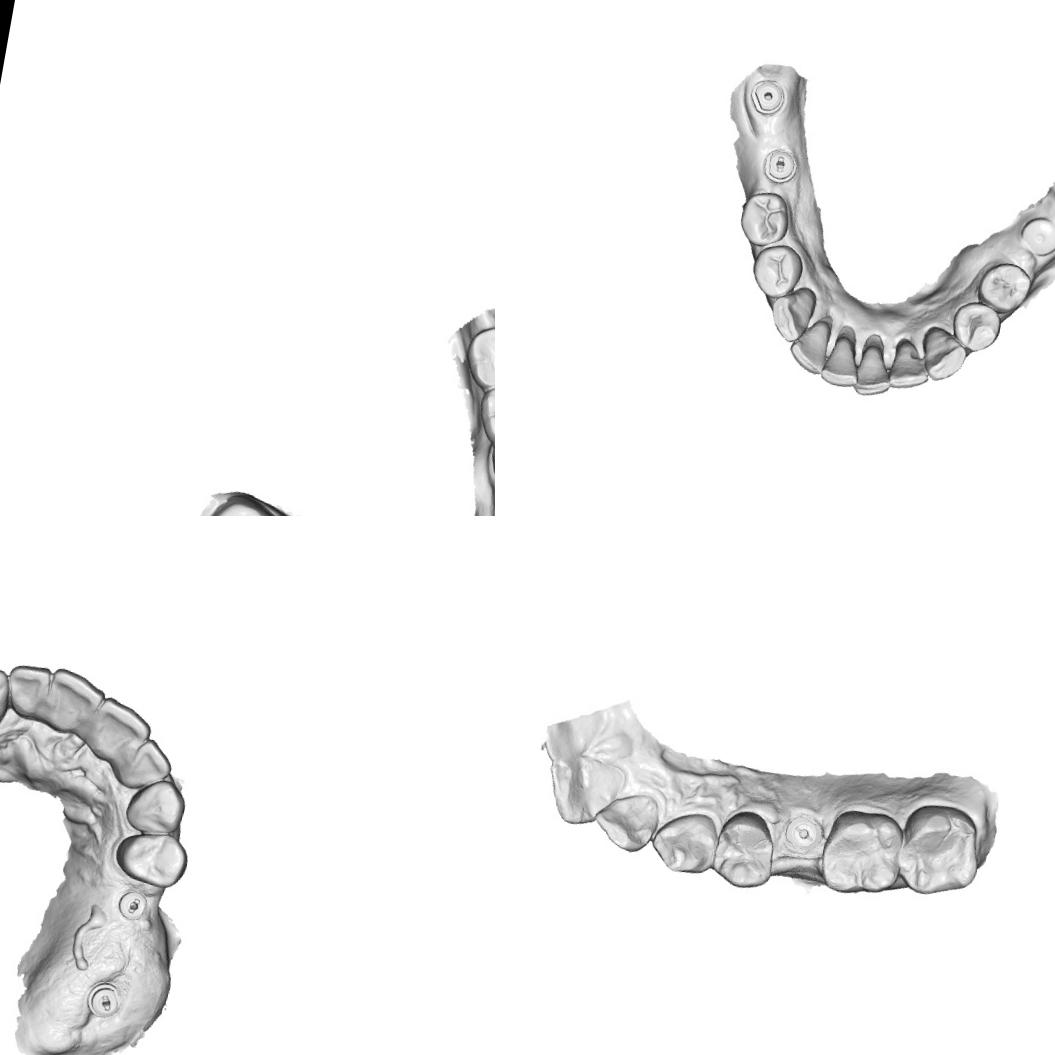canine: (647, 806, 726, 878), (119, 773, 190, 842), (763, 279, 819, 347), (914, 321, 972, 386), (0, 658, 14, 733)
implant: (1015, 211, 1055, 260), (748, 74, 789, 118)
implant_minus: (778, 810, 832, 858), (758, 144, 800, 187), (82, 978, 124, 1021), (115, 886, 152, 924)
incisor: (542, 746, 623, 831), (87, 692, 156, 769), (40, 662, 109, 736), (592, 790, 662, 855), (119, 733, 178, 794), (0, 659, 55, 722), (785, 312, 836, 378), (883, 336, 936, 395), (816, 330, 866, 390), (850, 340, 896, 401)
molar: (893, 800, 986, 904), (814, 802, 907, 900), (459, 318, 495, 396), (189, 488, 285, 516), (472, 375, 495, 450)
premolar: (711, 804, 778, 890), (109, 825, 193, 893), (746, 237, 808, 303), (734, 185, 795, 251), (972, 257, 1036, 318), (946, 296, 1005, 356), (481, 430, 495, 492)
